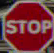Stop: (3, 6, 50, 44)
